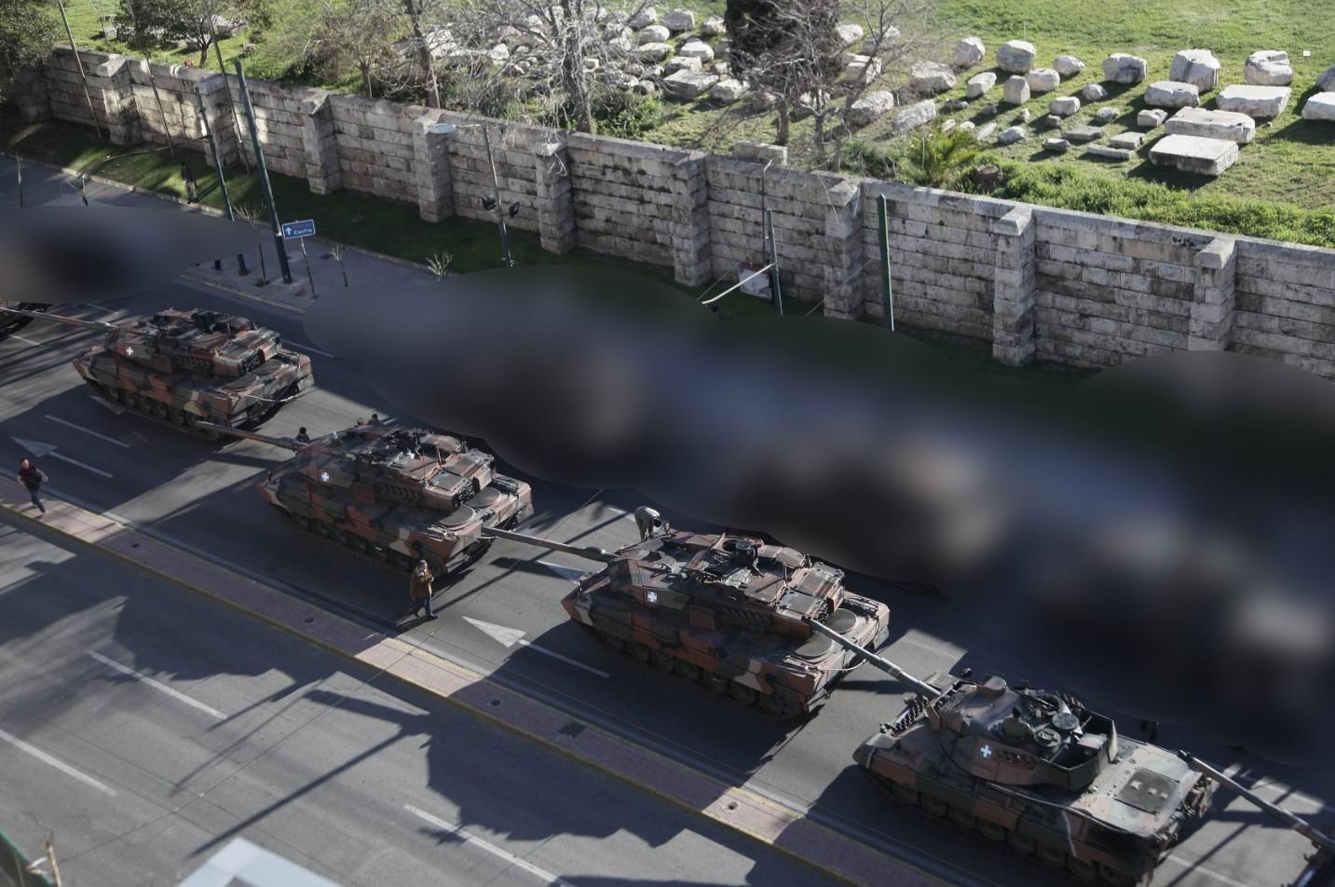tank: (797, 614, 1211, 885), (484, 491, 894, 730), (0, 280, 318, 443), (255, 422, 537, 586)
